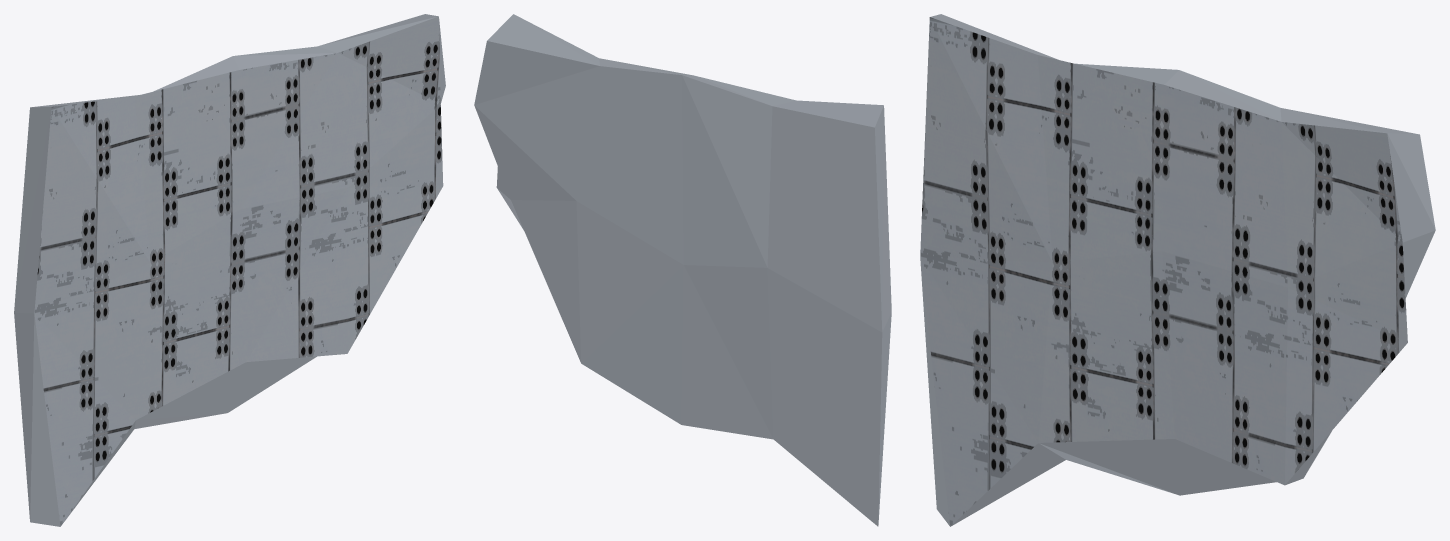
Rendered from plat5.glb.
3 views of the same model, side by side, from view 1: azimuth 30°, elevation 25°; view 2: azimuth 150°, elevation 25°; view 3: azimuth 330°, elevation 25° (orthographic). The views are drawn at different scales.
Parts seen in each view (by area): view 1: Solar_small_broken_0; view 2: Solar_small_broken_0; view 3: Solar_small_broken_0.
Boxes of the visible parts, x1,y1,x2,y2 form: Solar_small_broken_0: (14,14,445,526); Solar_small_broken_0: (474,14,891,526); Solar_small_broken_0: (920,14,1435,526).
Bounding box in the file's own units: 2.45 × 2.34 × 0.2417.
1 material, 1 textured.
